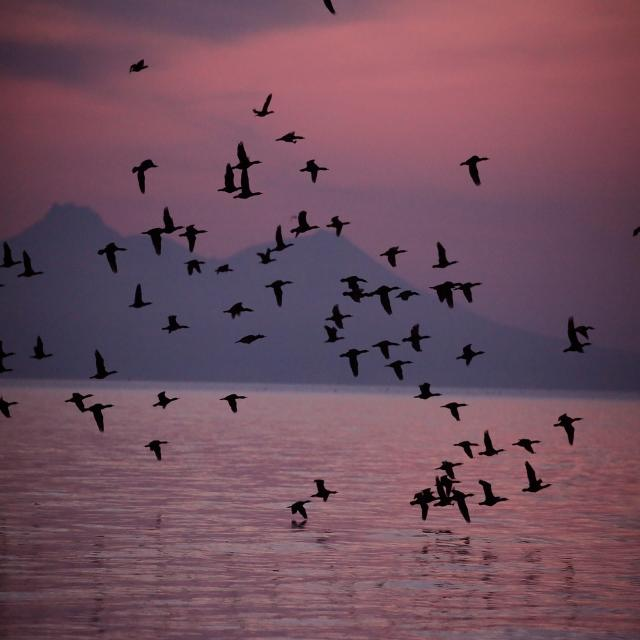bird: (65, 393, 115, 433), (442, 482, 476, 522), (564, 313, 595, 353), (172, 219, 206, 254), (97, 240, 131, 274), (288, 209, 321, 240), (132, 160, 160, 196), (460, 154, 490, 187), (524, 463, 554, 496), (90, 350, 120, 383), (340, 348, 370, 380), (555, 414, 584, 447), (408, 490, 437, 523), (478, 480, 509, 510), (429, 240, 459, 271), (262, 280, 294, 308), (430, 278, 458, 310), (216, 163, 244, 195), (298, 159, 329, 187), (17, 247, 45, 278), (268, 225, 295, 257), (401, 324, 430, 353), (141, 223, 167, 255), (127, 282, 156, 310), (237, 143, 263, 174), (379, 244, 409, 270), (340, 273, 370, 299), (454, 344, 485, 369), (372, 284, 396, 316), (454, 278, 480, 306), (222, 300, 255, 322), (383, 358, 413, 382), (392, 286, 422, 310), (0, 338, 19, 375), (325, 302, 352, 328), (481, 430, 505, 459), (159, 208, 181, 239), (30, 336, 56, 362), (439, 401, 468, 424), (160, 312, 190, 334), (325, 214, 351, 239), (436, 458, 463, 481), (288, 498, 310, 526), (412, 382, 440, 404), (1, 241, 19, 273), (452, 438, 477, 461), (251, 95, 275, 118), (152, 392, 178, 413), (233, 331, 266, 347), (219, 394, 244, 415), (512, 438, 541, 456), (370, 338, 396, 358), (1, 393, 20, 420), (310, 480, 332, 502), (183, 256, 206, 277), (277, 129, 307, 145), (253, 246, 277, 266), (146, 439, 167, 461), (312, 1, 338, 18), (324, 325, 344, 345), (214, 262, 235, 278), (128, 59, 148, 75), (630, 218, 639, 244)
